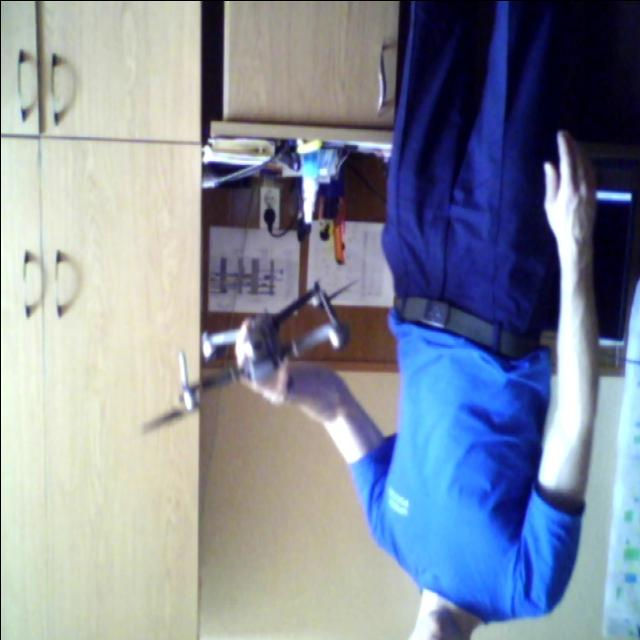drone: (114, 274, 360, 439)
